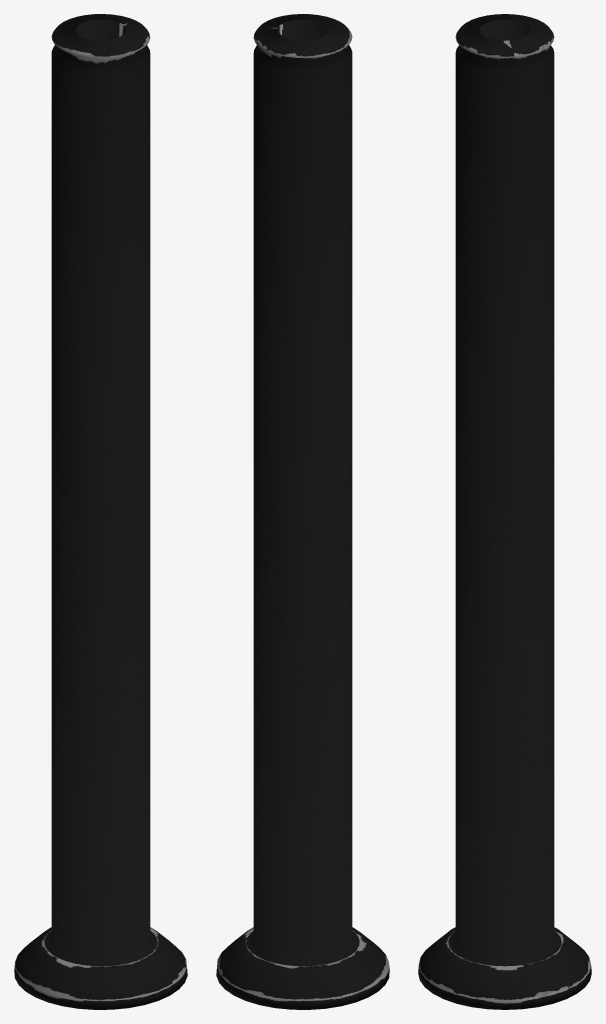
Rendered from button_base_3.fbx.
3 views of the same model, side by side, from view 1: azimuth 30°, elevation 25°; view 2: azimuth 150°, elevation 25°; view 3: azimuth 270°, elevation 25° (orthographic).
Visible parts, largest first — view 1: button_pedestal; view 2: button_pedestal; view 3: button_pedestal.
Part boxes in pixels (x1=…): button_pedestal: x1=14, y1=14, x2=187, y2=1009; button_pedestal: x1=216, y1=14, x2=389, y2=1009; button_pedestal: x1=418, y1=14, x2=591, y2=1009.
Bounding box in the file's own units: 0.2195 × 1.31 × 0.2195.
